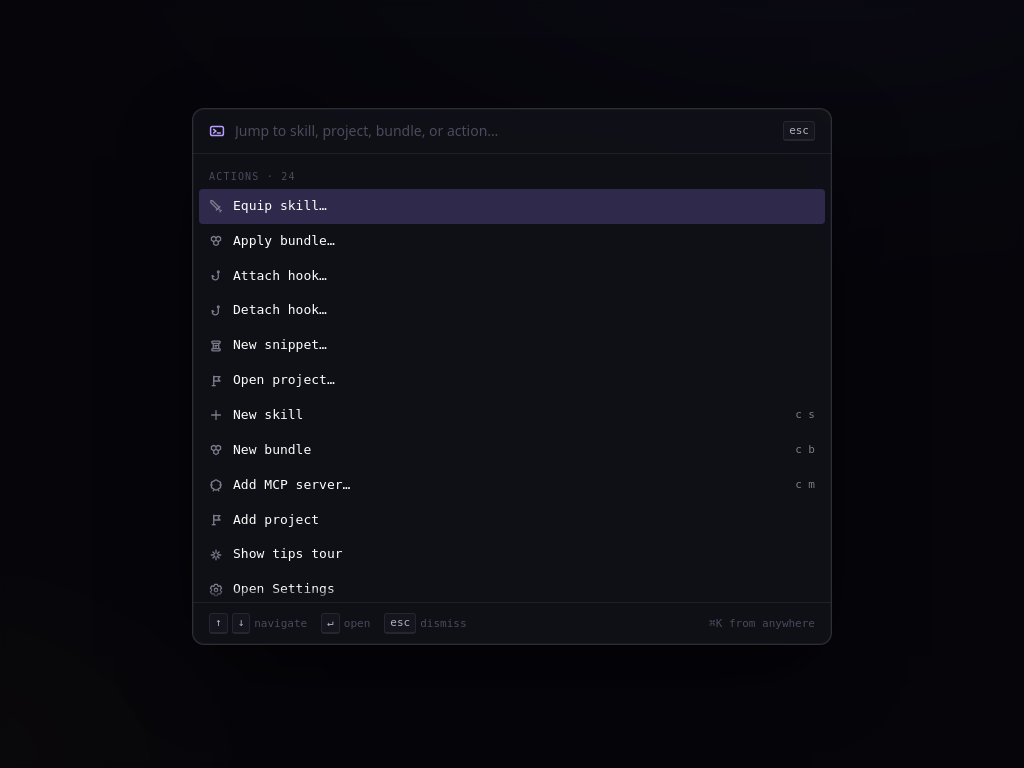
CommandPalette (new design) › filters items via substring match
Step 1. Type "brain" into the field with placeholder "Jump to skill, project, bundle, or action…" → (504, 131), box [235,121,773,141]
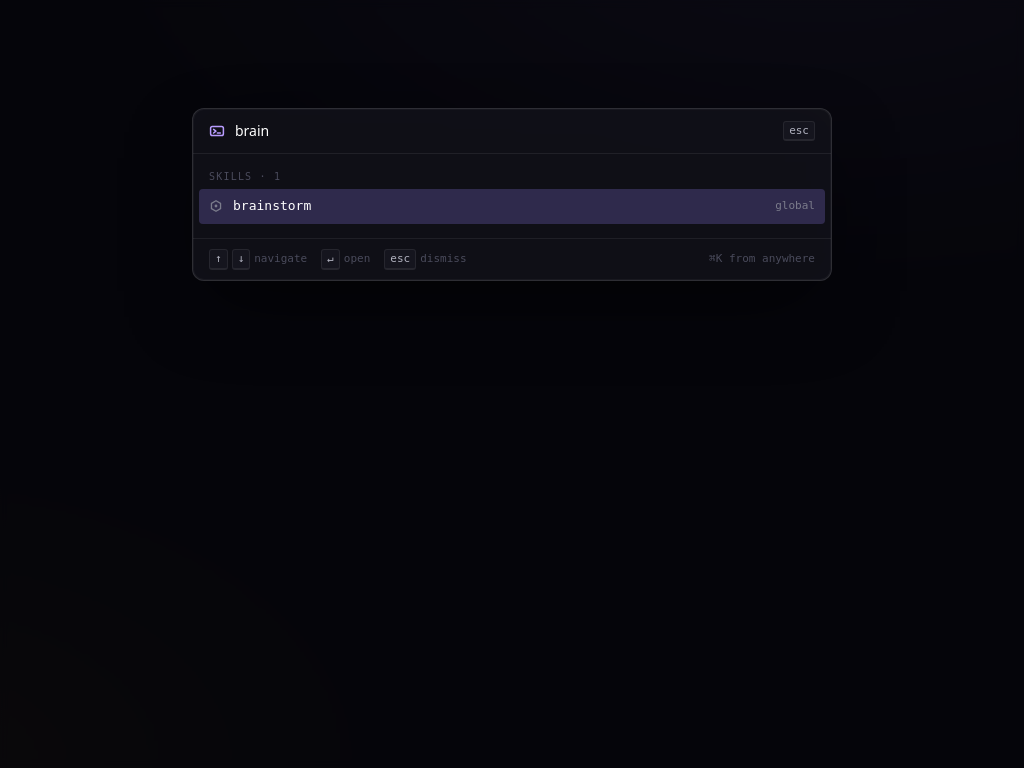
Result: the text "brainstorm" is shown at [233,198,311,213]
